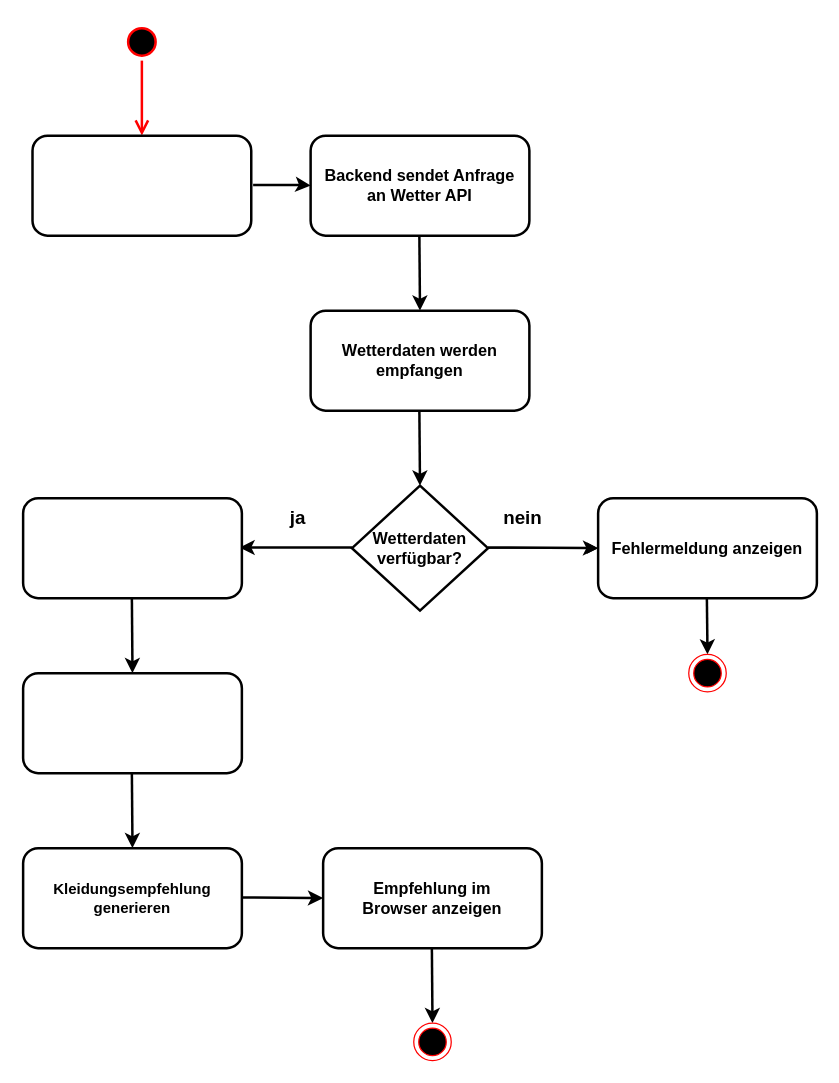
Some shapes in this 839 by 1083 pixel diagram are drawn without their labels. The centre of each missing label's shape, as x and y in pixels:
"Benutzer gibt Stadt, Datum und Uhrzeit ein" belongs at (x=141, y=185).
"Datenbank nach passenden Regeln durchsuchen" belongs at (x=131, y=722).
"Wetterdaten verarbeiten" belongs at (x=131, y=547).
